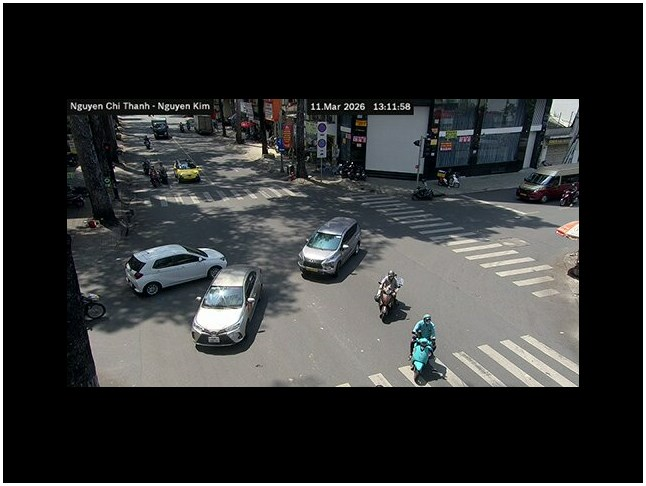car: (191, 264, 263, 346), (124, 243, 227, 297), (297, 216, 364, 280), (515, 172, 579, 205)
